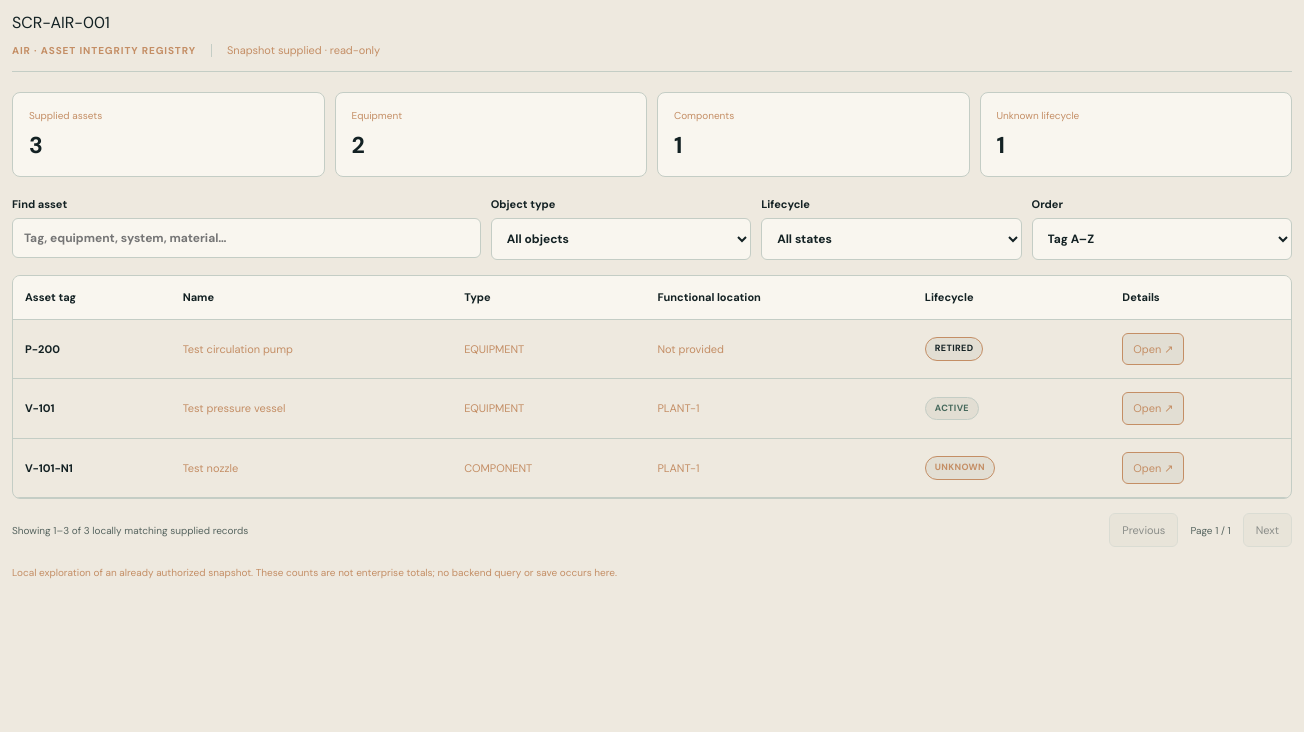
Test: future AIR frontend presentation boundary › does not enable persistence for the local master-data draft
Click the button with aria-label "Open V-101 workspace": [1153, 408] box x1=1122 y1=392 x2=1184 y2=424
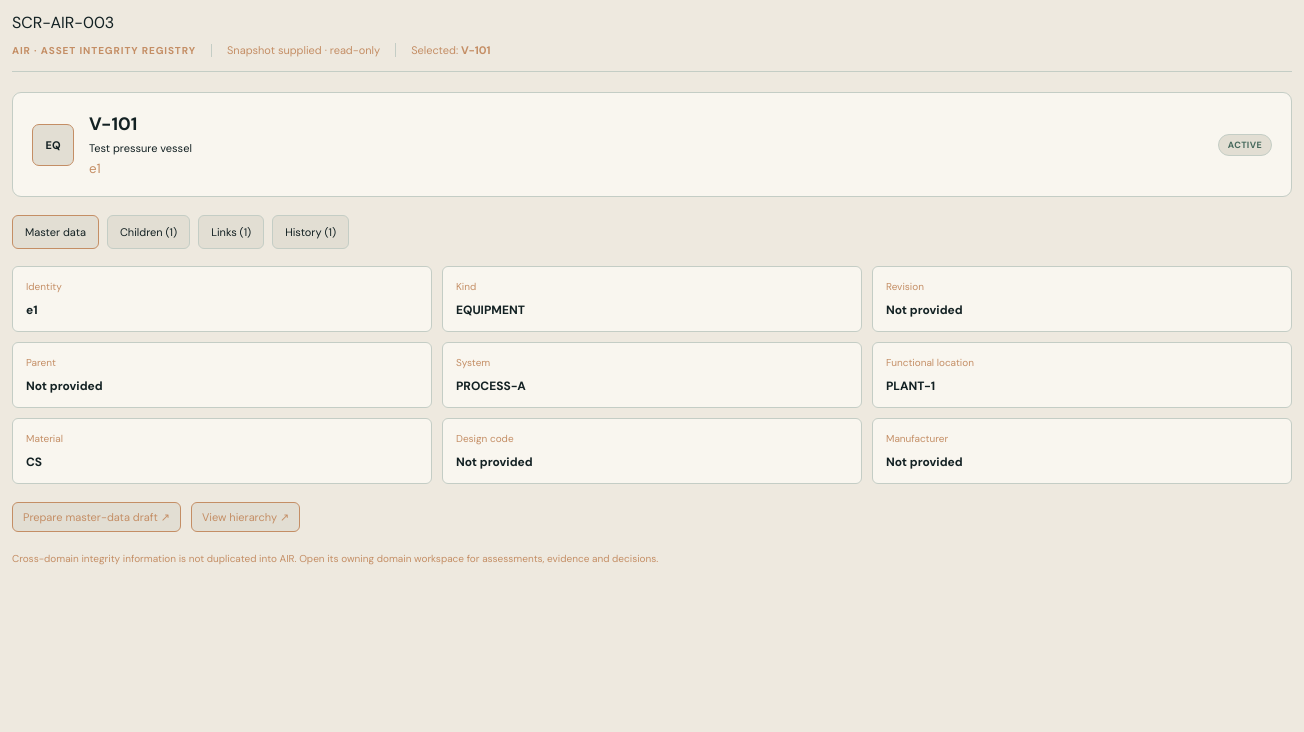
Click the button "Prepare master-data draft ↗": [96, 517] box x1=12 y1=502 x2=181 y2=532
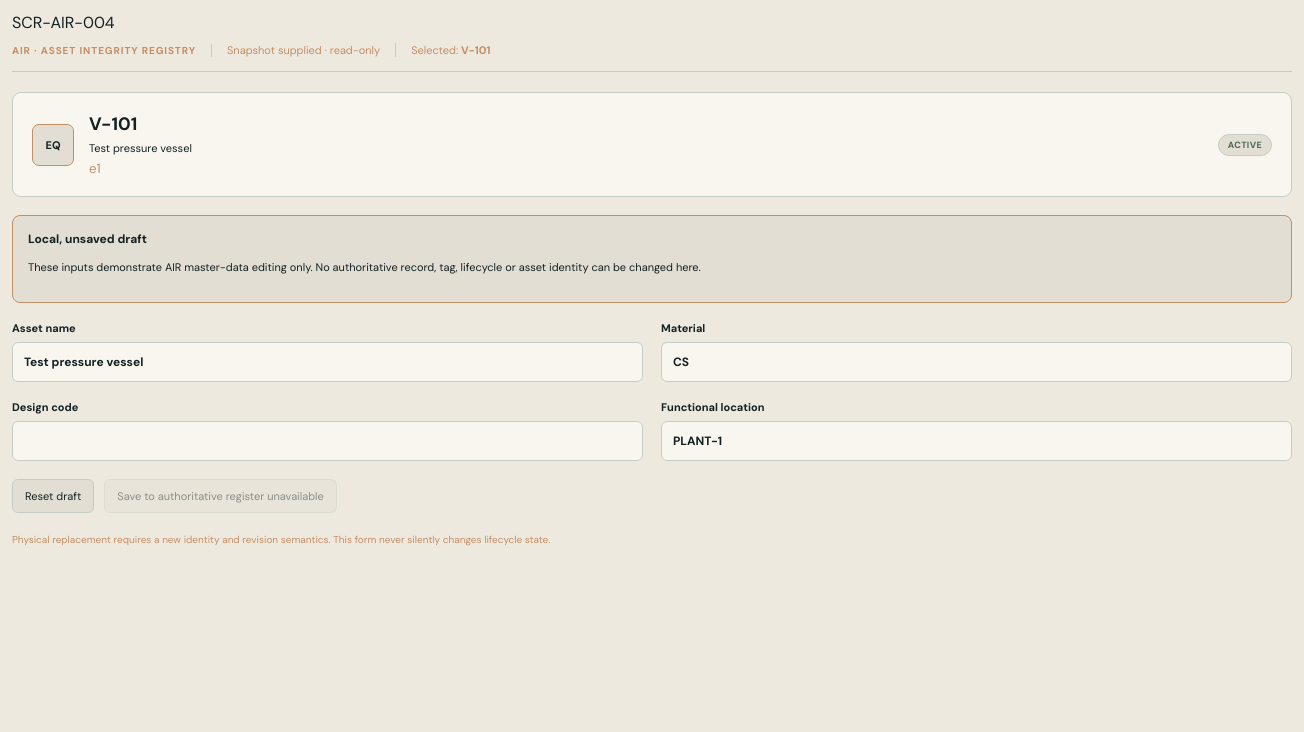
Check: the text with test id "screen-id" reads "SCR-AIR-004", box x1=12 y1=12 x2=115 y2=33
Replace the text in the field labelled "Asset name" with "Draft change": [328, 362] box x1=12 y1=342 x2=643 y2=382
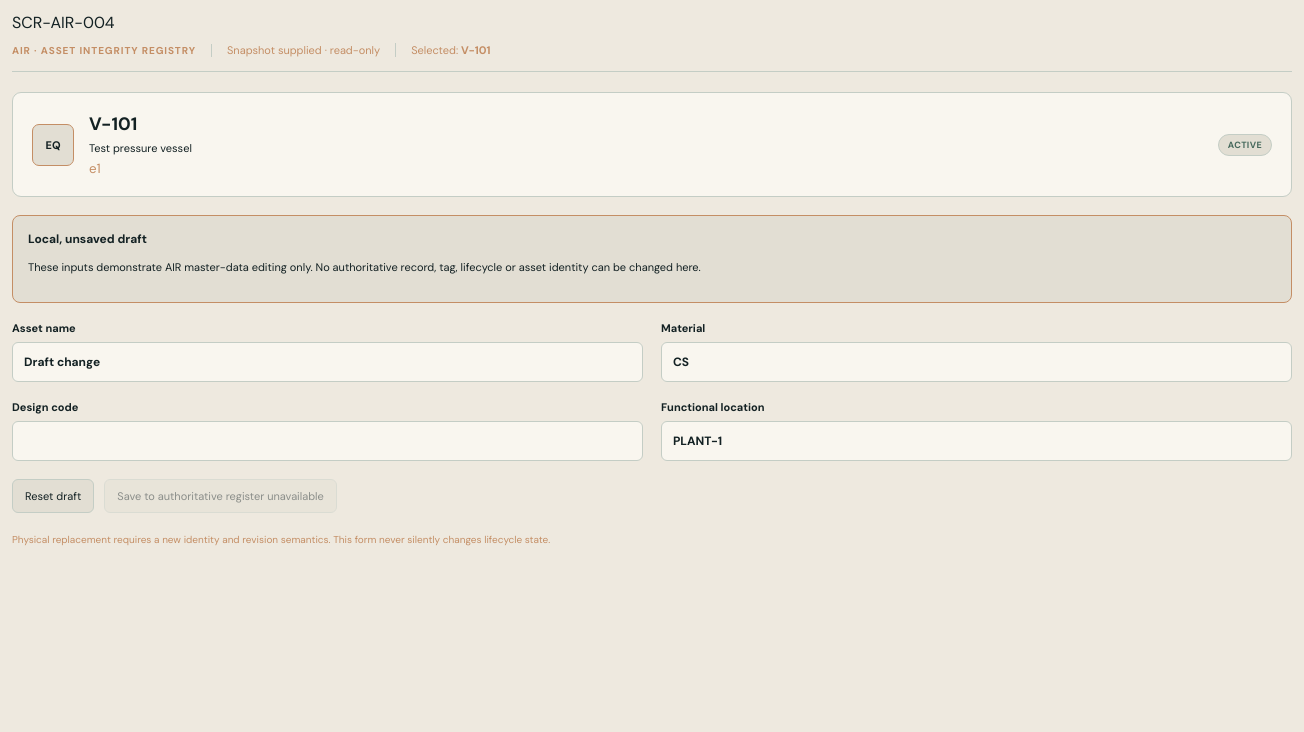
Check: the button "Save to authoritative register unavailable" is disabled, box x1=104 y1=479 x2=337 y2=513
Click the button "Reset draft": [53, 496] box x1=12 y1=479 x2=94 y2=513
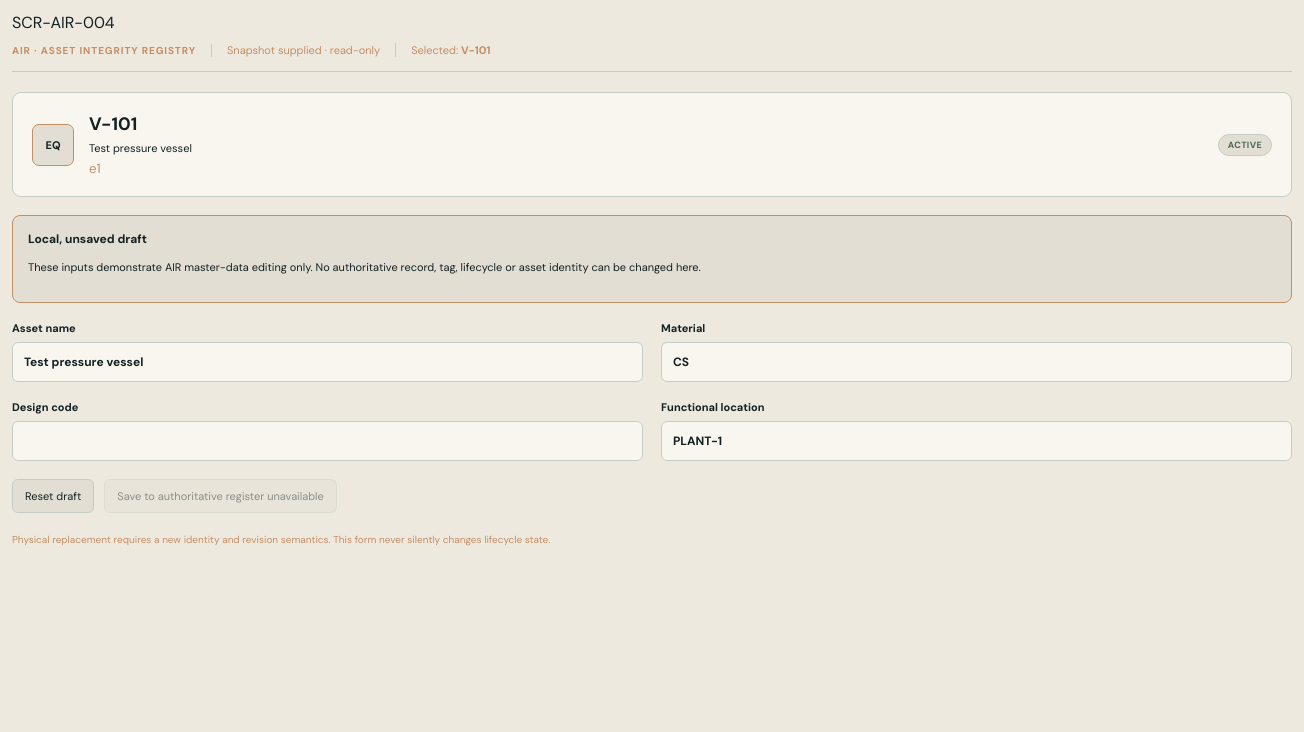
Check: the field labelled "Asset name" holds "Test pressure vessel", box x1=12 y1=342 x2=643 y2=382
